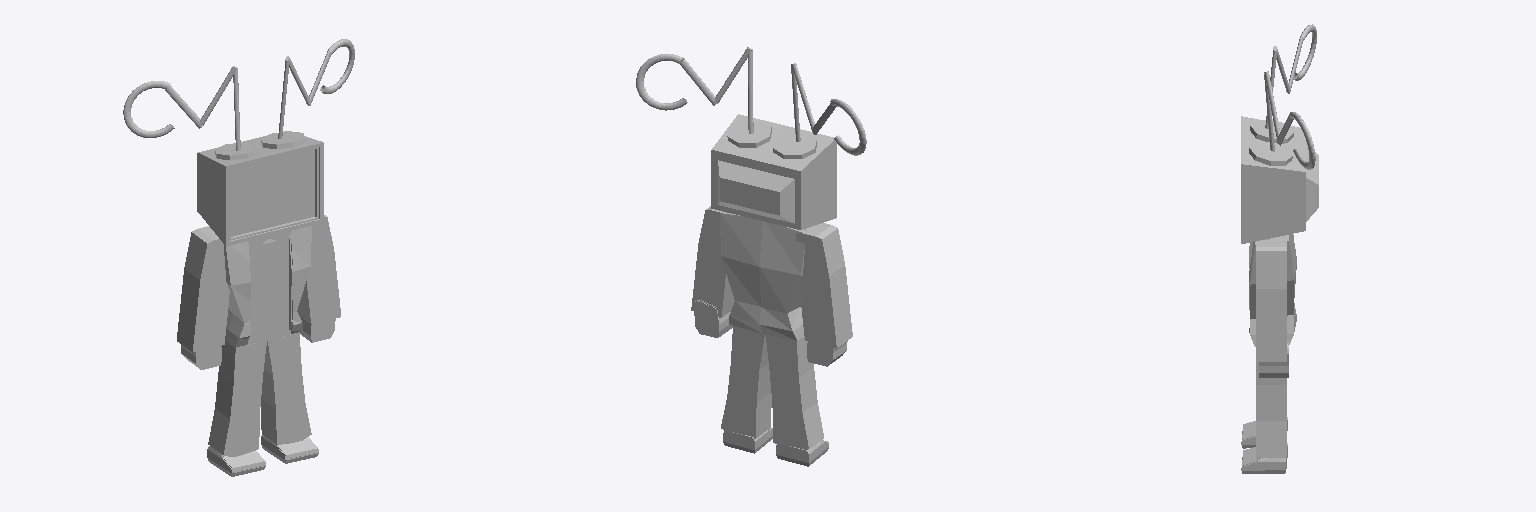
File: seeze outlined.obj
3 renders of one model, left to right at view 1: azimuth 30°, elevation 25°; view 2: azimuth 150°, elevation 25°; view 3: azimuth 270°, elevation 25°, orthographic.
Visible parts, largest first — view 1: sdfg, sdfg.004, sdfg.003, sdfg.001, sdfg.002, sdfg.006, sdfg.005; view 2: sdfg, sdfg.004, sdfg.003, sdfg.001, sdfg.005, sdfg.002, sdfg.006; view 3: sdfg.004, sdfg.002, sdfg, sdfg.006, sdfg.003.
Boxes of the visible parts, box(x1,y1,x2,y2) form: sdfg: box(123, 39, 354, 472); sdfg.004: box(197, 131, 323, 246); sdfg.003: box(224, 226, 311, 347); sdfg.001: box(177, 226, 229, 369); sdfg.002: box(297, 215, 340, 342); sdfg.006: box(261, 332, 318, 463); sdfg.005: box(207, 341, 266, 476); sdfg: box(636, 47, 866, 461); sdfg.004: box(711, 114, 836, 229); sdfg.003: box(720, 212, 804, 340); sdfg.001: box(796, 223, 852, 366); sdfg.005: box(766, 335, 828, 466); sdfg.002: box(691, 206, 734, 337); sdfg.006: box(721, 326, 772, 453); sdfg.004: box(1241, 116, 1318, 243); sdfg.002: box(1256, 239, 1288, 377); sdfg: box(1241, 24, 1316, 469); sdfg.006: box(1241, 362, 1287, 473); sdfg.003: box(1249, 234, 1296, 346).
Bounding box in the file's own units: 19.61 × 32.16 × 5.7.